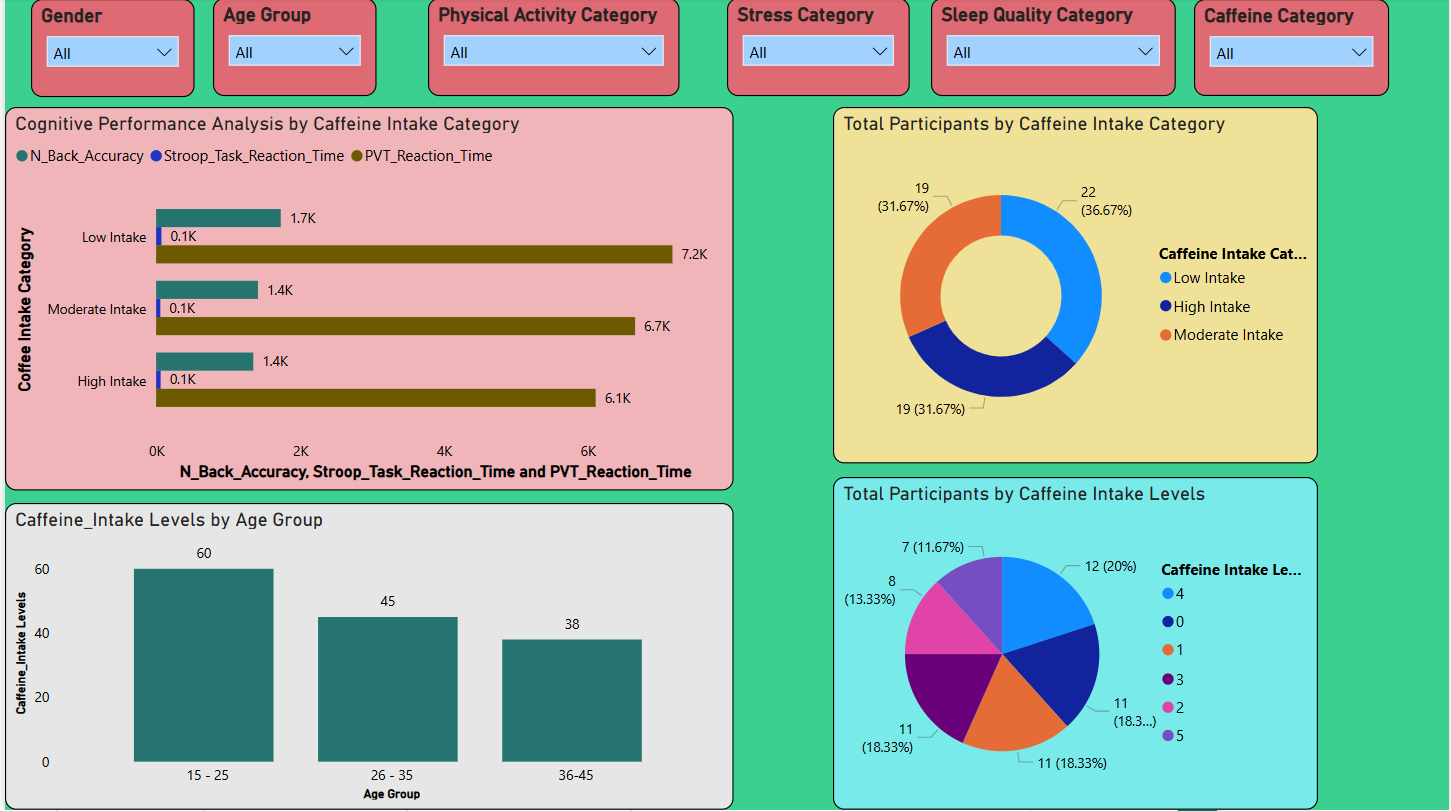

What the dashboard file says about the page in this screenshot:
{"tool":"powerbi","page":{"name":"Analysis by Caffeine intake","canvas":[1280,720],"ordinal":5},"visuals":[{"type":"clusteredBarChart","title":"Cognitive Performance Analysis  by Caffeine Intake Category","fields":{"Category":["sleep_deprivation_dataset_detai.coffee intake category"],"Y":["Sum(sleep_deprivation_dataset_detai.N_Back_Accuracy)","Sum(sleep_deprivation_dataset_detai.Stroop_Task_Reaction_Time)","Sum(sleep_deprivation_dataset_detai.PVT_Reaction_Time)"]},"box":[0,96.3,645.8,340.4],"z":1000},{"type":"donutChart","fields":{"Category":["sleep_deprivation_dataset_detai.coffee intake category"],"Y":["CountNonNull(sleep_deprivation_dataset_detai.Participant_ID)"]},"box":[734.3,96.3,429.9,316.1],"z":2000},{"type":"pieChart","fields":{"Category":["sleep_deprivation_dataset_detai.Caffeine_Intake"],"Y":["CountNonNull(sleep_deprivation_dataset_detai.Participant_ID)"]},"box":[734,425,430,295],"z":3000},{"type":"slicer","title":"Gender","fields":{"Values":["sleep_deprivation_dataset_detai.Gender"]},"box":[23.3,1,144.9,86.6],"z":3001},{"type":"slicer","title":"Age Group","fields":{"Values":["sleep_deprivation_dataset_detai.Age Group"]},"box":[184.8,0,144.9,86.6],"z":3002},{"type":"slicer","title":"Physical Activity Category","fields":{"Values":["sleep_deprivation_dataset_detai.Physical Activity Category"]},"box":[375.4,0,222.7,86.6],"z":3003},{"type":"slicer","title":"Stress  Category","fields":{"Values":["sleep_deprivation_dataset_detai.Stress Category"]},"box":[640,0,162.4,86.6],"z":3004},{"type":"slicer","title":"Caffeine Category","fields":{"Values":["sleep_deprivation_dataset_detai.coffee intake category"]},"box":[1054.3,1,173.1,85.6],"z":3005},{"type":"slicer","title":"Sleep Quality Category","fields":{"Values":["sleep_deprivation_dataset_detai.Sleep Quality category"]},"box":[820.9,0,216.9,86.6],"z":3006},{"type":"columnChart","fields":{"Category":["sleep_deprivation_dataset_detai.Age Group"],"Y":["Sum(sleep_deprivation_dataset_detai.Caffeine_Intake)"]},"box":[0,447.4,645.8,272.3],"z":3008}]}

Visuals, with their boxes in screenshot pixels (x1, y1, x2, y2), scaled from the page's 1280x720 canvas onto the 1451x811 screenshot:
"Cognitive Performance Analysis  by Caffeine Intake Category" clusteredBarChart: <region>0, 108, 732, 492</region>
donutChart - sleep_deprivation_dataset_detai.coffee intake category x CountNonNull(sleep_deprivation_dataset_detai.Participant_ID): <region>832, 108, 1320, 465</region>
pieChart - sleep_deprivation_dataset_detai.Caffeine_Intake x CountNonNull(sleep_deprivation_dataset_detai.Participant_ID): <region>832, 479, 1320, 810</region>
"Gender" slicer: <region>26, 1, 191, 99</region>
"Age Group" slicer: <region>209, 0, 374, 98</region>
"Physical Activity Category" slicer: <region>426, 0, 678, 98</region>
"Stress  Category" slicer: <region>726, 0, 910, 98</region>
"Caffeine Category" slicer: <region>1195, 1, 1391, 98</region>
"Sleep Quality Category" slicer: <region>931, 0, 1176, 98</region>
columnChart - sleep_deprivation_dataset_detai.Age Group x Sum(sleep_deprivation_dataset_detai.Caffeine_Intake): <region>0, 504, 732, 810</region>
